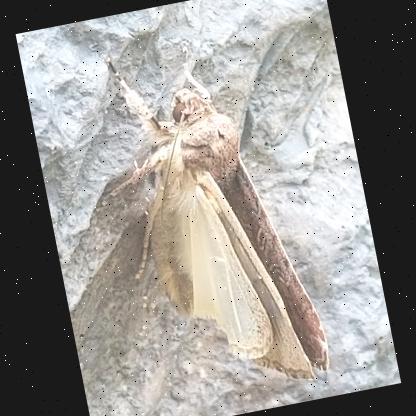Fall Armyworm Moth: (56, 21, 340, 416)
